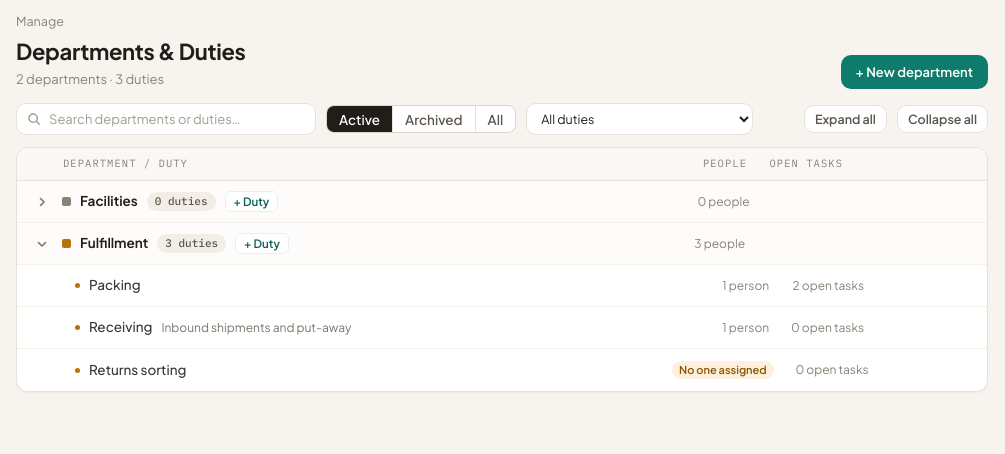
Test: DepartmentsPage › catches a duplicate duty name (any case or spacing) before it reaches the server
Expected: the text "Packing" is shown, x1=89 y1=275 x2=141 y2=296
Click the button titled "Add a duty to Fulfillment" in the row of "Fulfillment" at (262, 244), box x1=235 y1=233 x2=289 y2=254
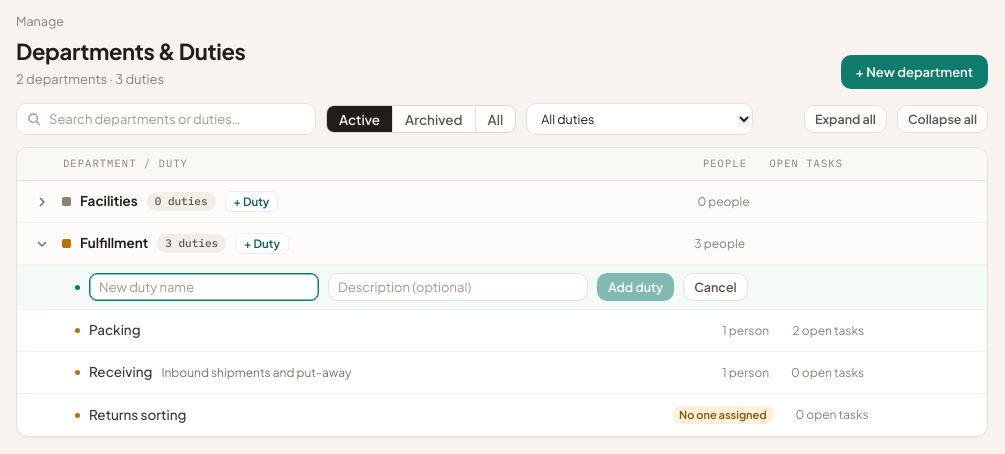
Type "  packing " into the field labelled "New duty name" at (204, 287), box x1=89 y1=273 x2=319 y2=301
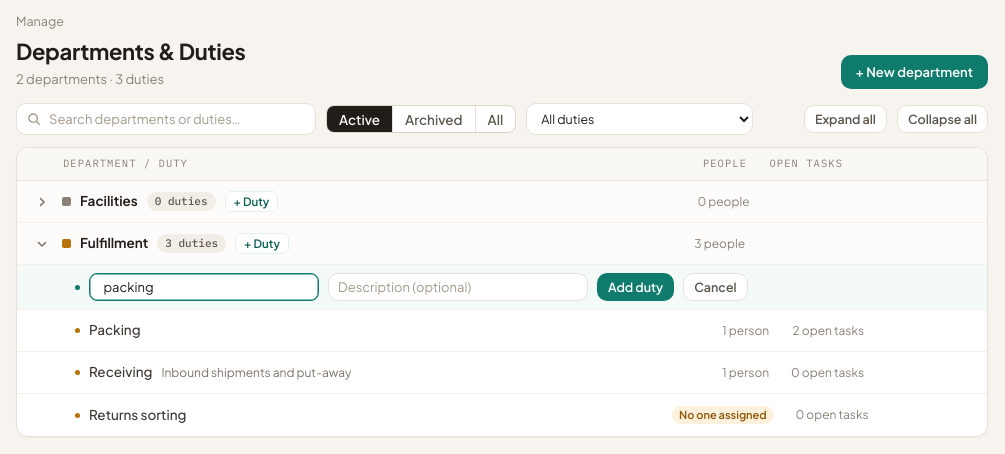
Click the button "Add duty" at (636, 287), box x1=597 y1=273 x2=674 y2=301
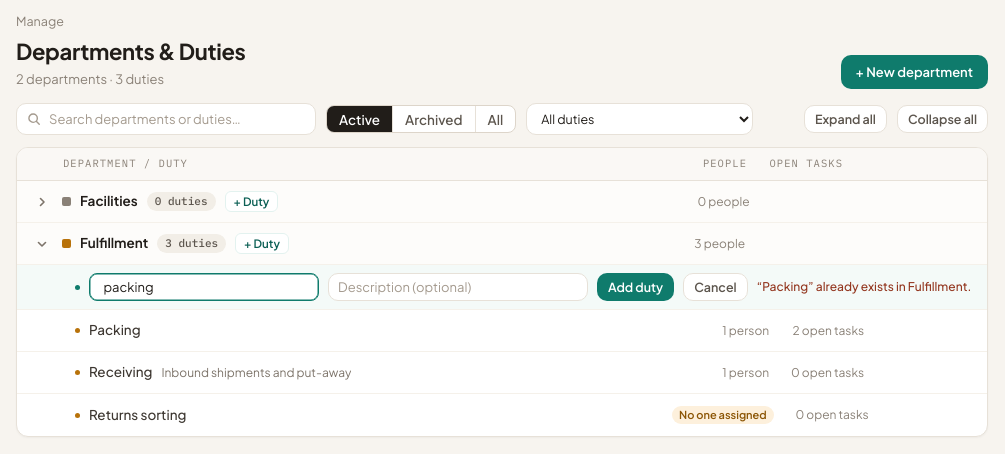
Result: the text "“Packing” already exists in Fulfillment." is shown at x1=757 y1=278 x2=971 y2=296
